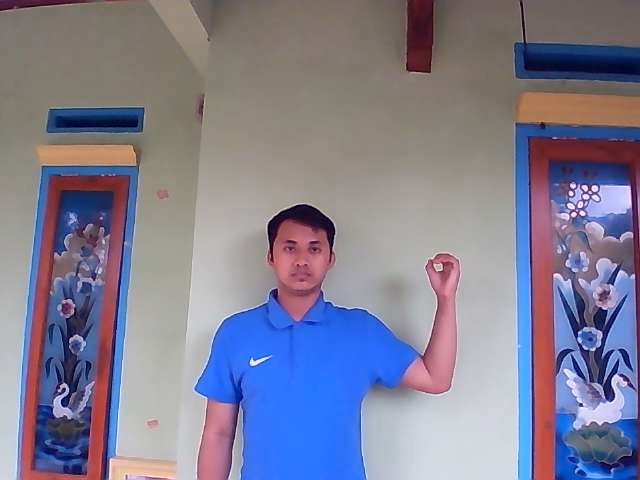O: (423, 252, 462, 300)
